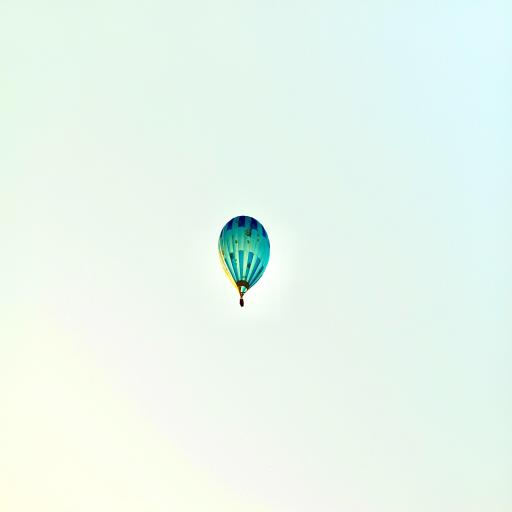hot air ballon: (218, 216, 270, 308)
